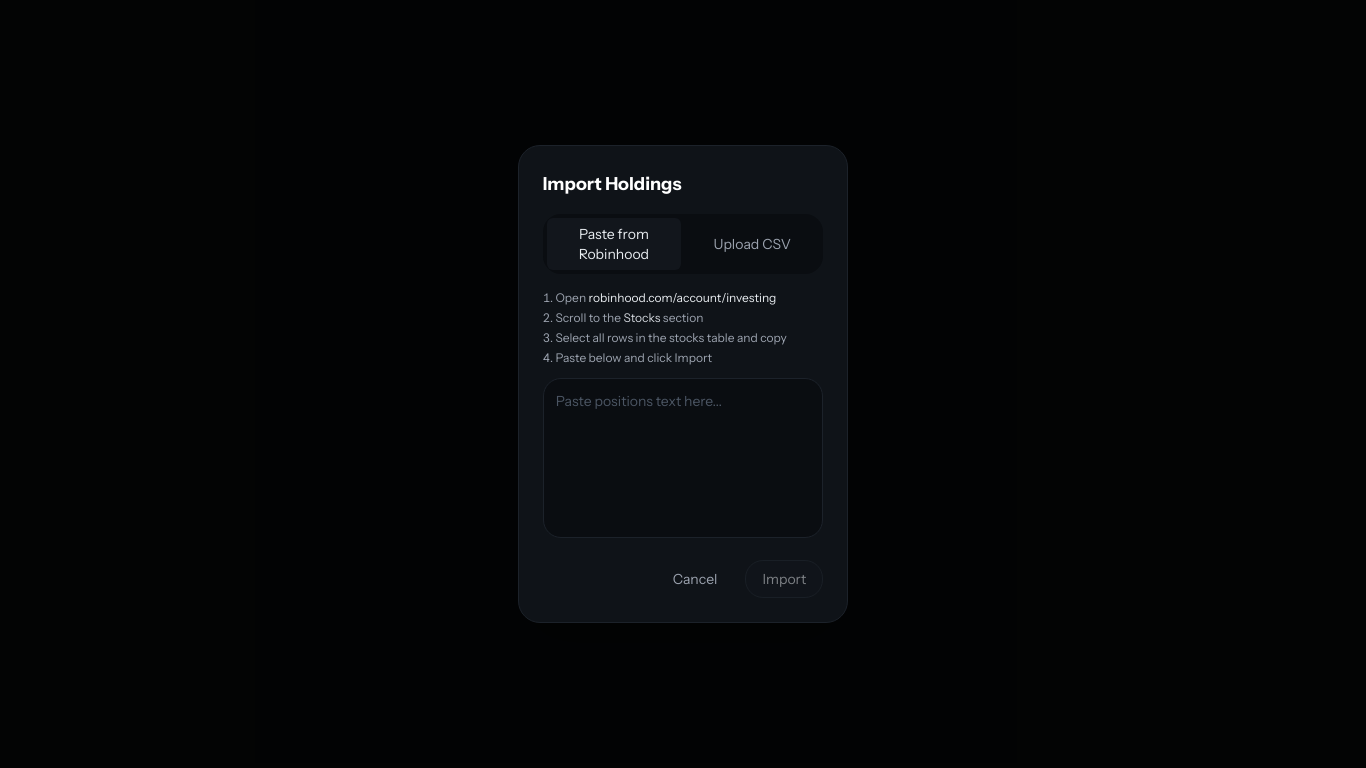
Test: CsvImportModal › shows the file input after switching to CSV tab
What coordinates should you click on to do the following:
click the button "Upload CSV"
I would click on:
 (752, 244)
Its box is [685, 218, 819, 270].
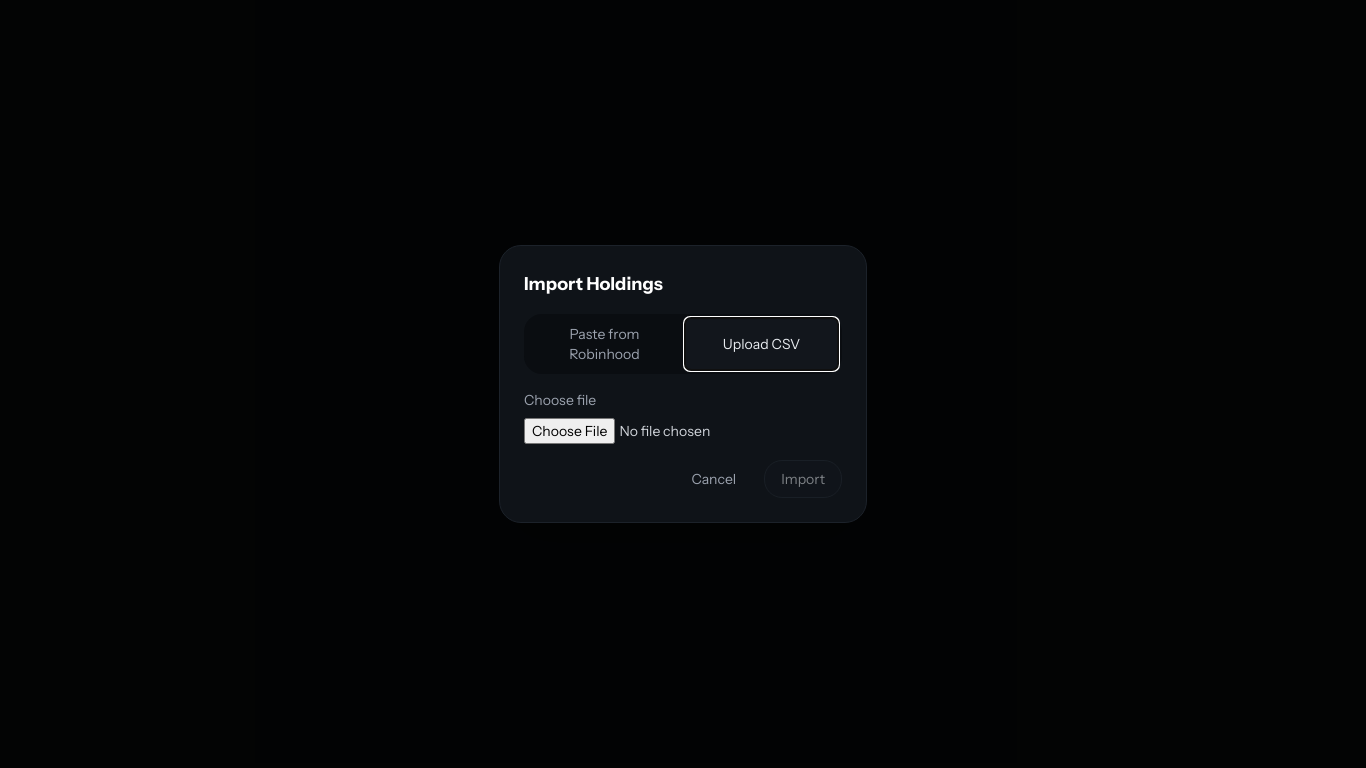
Check: the file field labelled "Choose file" is shown, box [524, 418, 842, 444]
